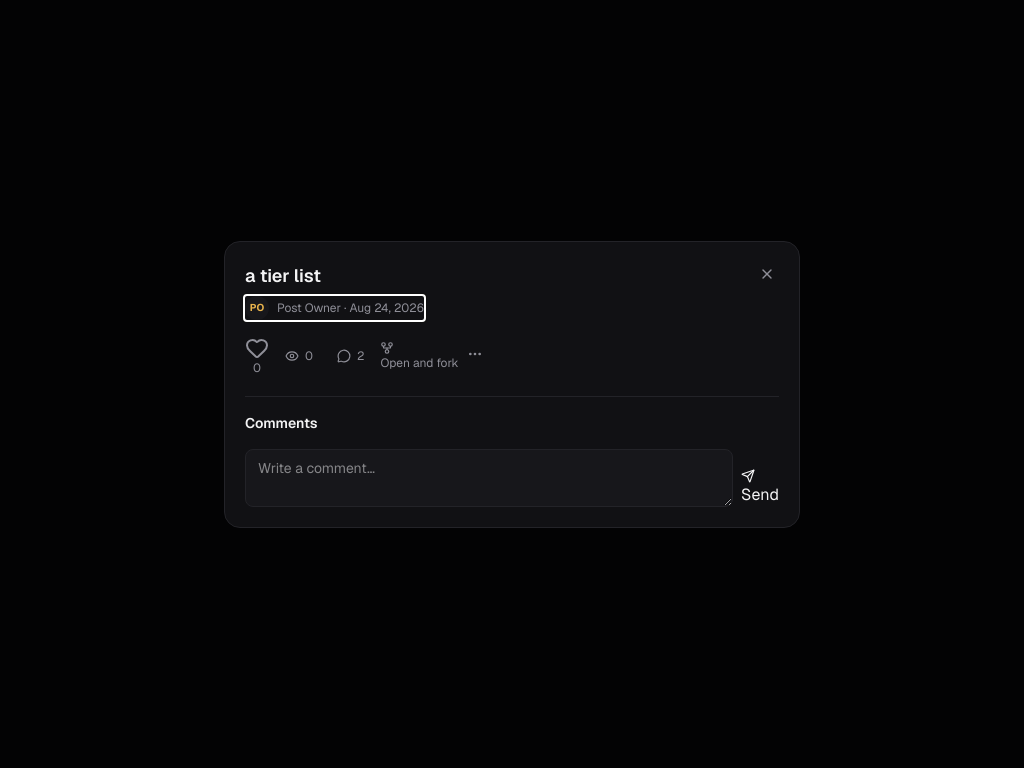
Test: reporting a post › is offered to anybody else
What coordinates should you click on to do the following:
click the button named "more post actions"
I would click on:
 (475, 354)
Its box is [467,346,483,362].
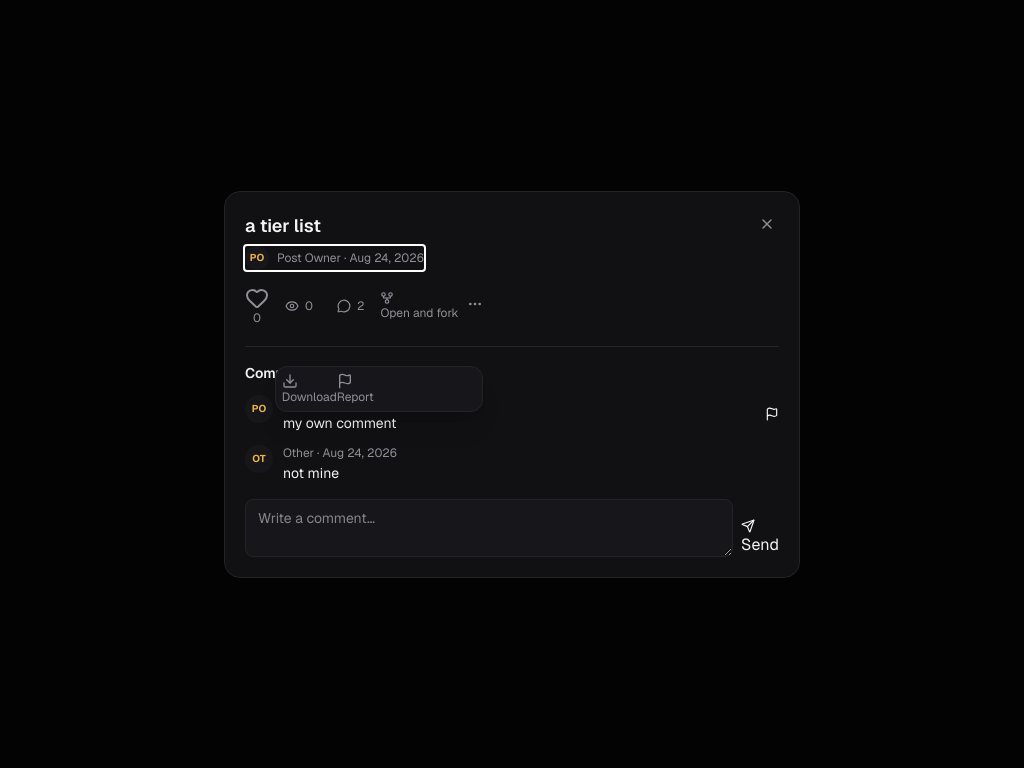
Expected: the menu item "Report" is shown, [337,372,374,404]
